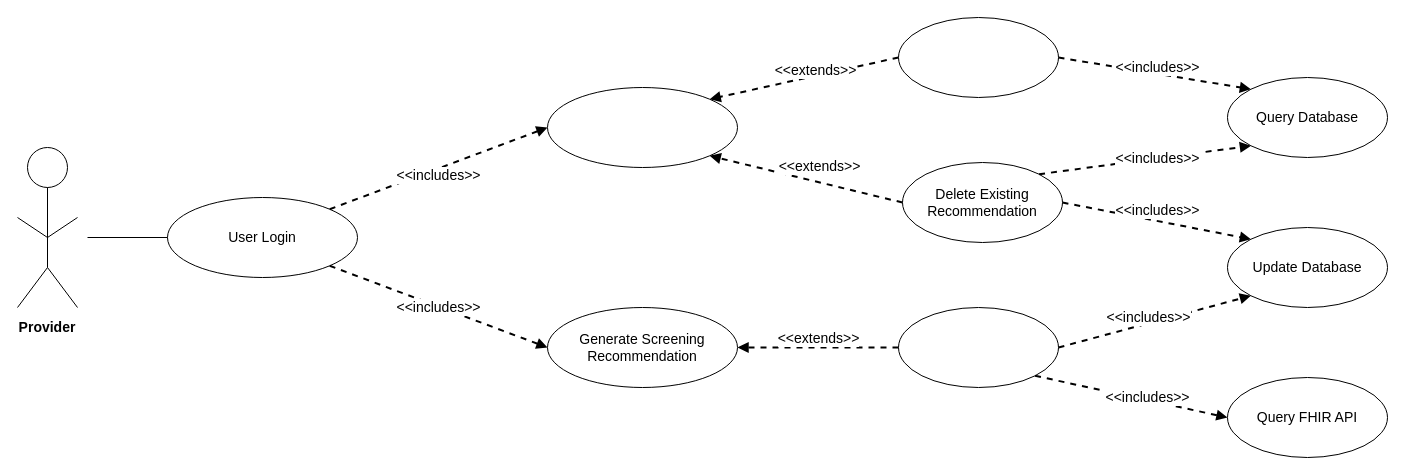
This 1405x475 diagram has some shape labels left out. The box of each missing label's shape, as (x1, y1, x2, y2) in pixels:
Create New Recommendation: (898, 306, 1058, 388)
Query Patient Data: (898, 16, 1058, 98)
View Patient Records: (546, 86, 738, 168)
